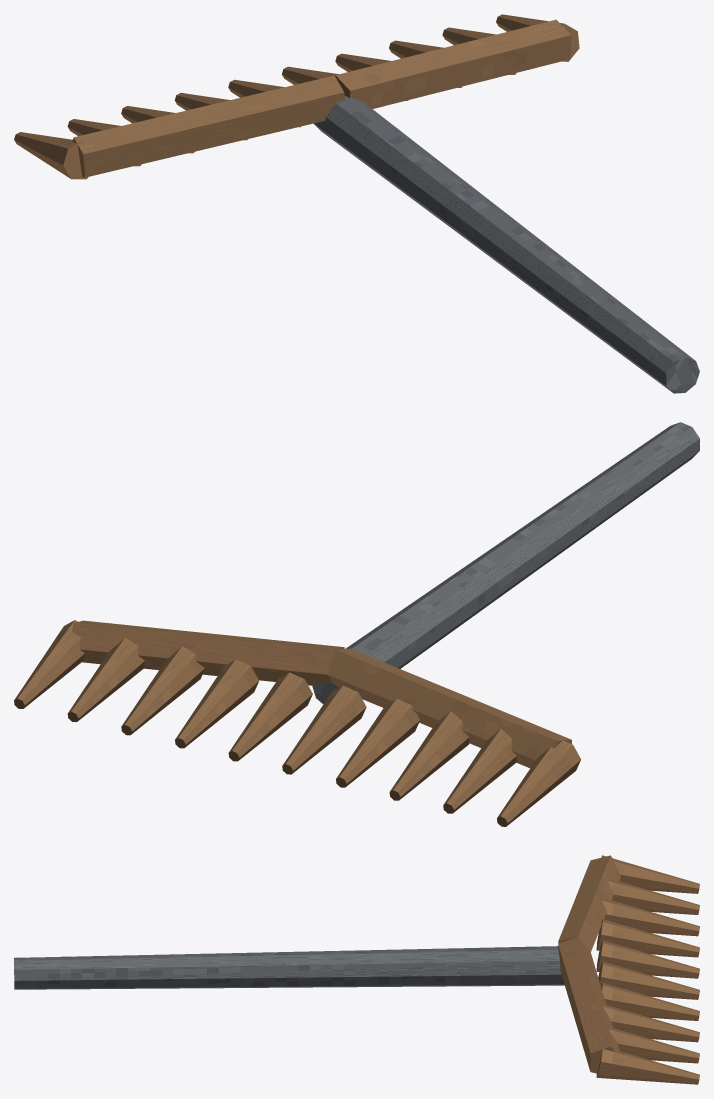
The model's file is rake_plastic.glb.
The picture shows the model from 3 angles, top to bottom: view 1: azimuth 30°, elevation 25°; view 2: azimuth 150°, elevation 25°; view 3: azimuth 270°, elevation 25°; orthographic projection. The views are drawn at different scales.
Visible parts, largest first — view 1: block_handle, block_tooth crossbar 0, block_tooth crossbar 1, block_tine (×5); view 2: block_tine (×10), block_handle, block_tooth crossbar 1, block_tooth crossbar 0; view 3: block_handle, block_tine (×10), block_tooth crossbar 1, block_tooth crossbar 0.
Part boxes in pixels (x1,y1,x2,y2): block_handle: (313,96,699,393); block_tooth crossbar 0: (72,75,344,177); block_tooth crossbar 1: (335,19,571,108); block_tine (×5): (14,14,579,179); block_tine (×10): (14,620,580,826); block_handle: (312,422,699,704); block_tooth crossbar 1: (72,620,344,685); block_tooth crossbar 0: (327,648,571,768); block_handle: (14,946,564,989); block_tine (×10): (596,855,699,1084); block_tooth crossbar 1: (558,937,619,1073); block_tooth crossbar 0: (558,855,620,951).
Bounding box in the file's own units: 1.06 × 0.1258 × 1.5.
Materials: 1 (1 with a texture image).
